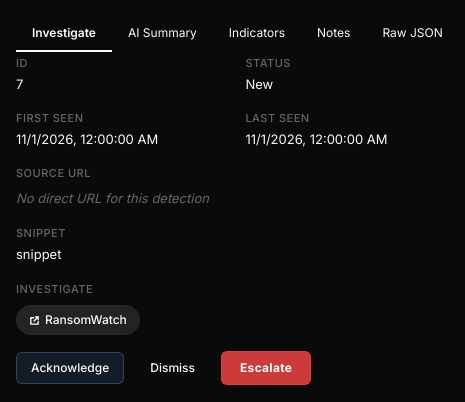
Test: DetectionDetail AI tab › sends one request for two quick clicks while one is pending
The image size is (465, 402).
Click the button "AI Summary" at (162, 34), box [112,16,213,52]
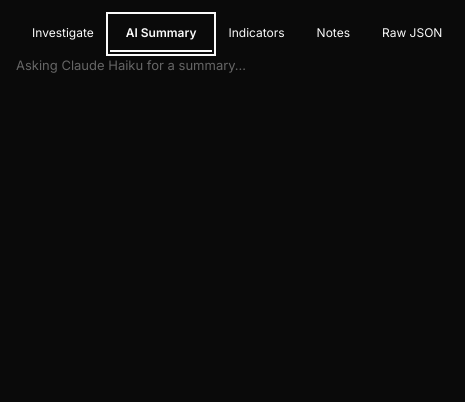
Click the button "AI Summary" at (161, 34), box [110,16,212,52]
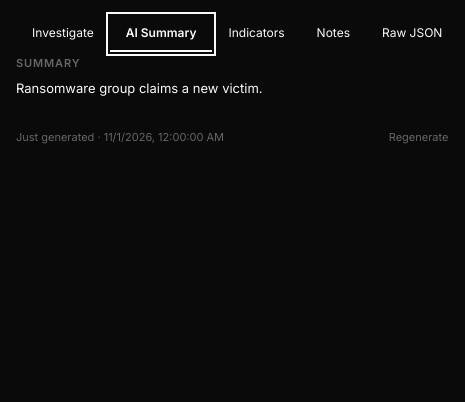
expect the text "Ransomware group claims a new victim." is shown: met, box [16,80,263,96]
